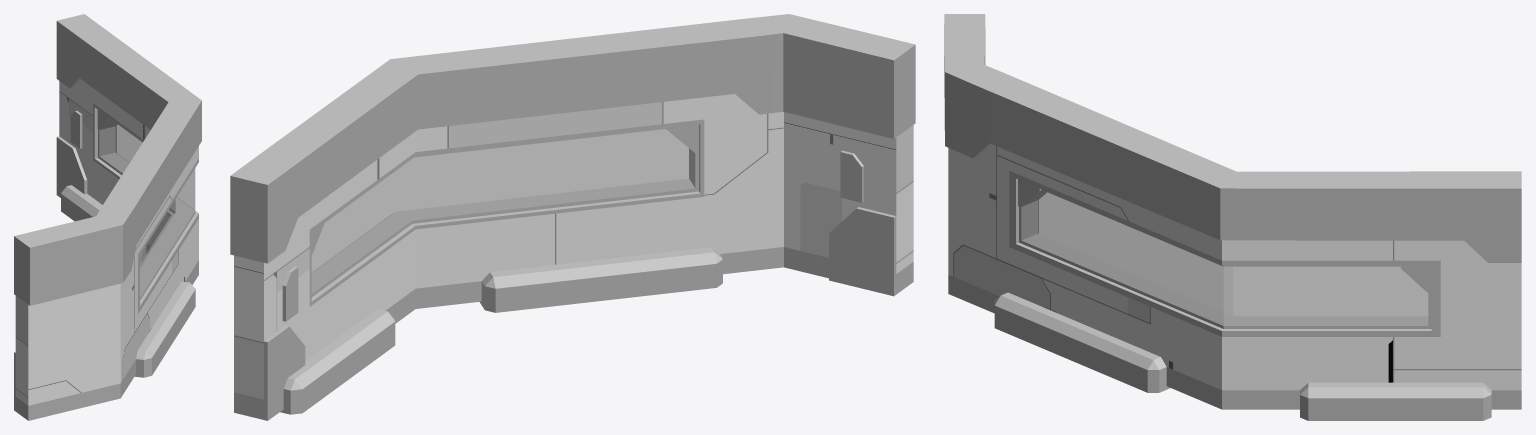
File: SM_Wall_7x3_Corner_Window_1.fbx
3 renders of one model, left to right at view 1: azimuth 30°, elevation 25°; view 2: azimuth 150°, elevation 25°; view 3: azimuth 270°, elevation 25°, orthographic. The views are drawn at different scales.
Visible parts, largest first — view 1: SM_Wall_7x3_Corner_Window_1; view 2: SM_Wall_7x3_Corner_Window_1; view 3: SM_Wall_7x3_Corner_Window_1.
Part boxes in pixels (x1=…): SM_Wall_7x3_Corner_Window_1: x1=14, y1=14, x2=201, y2=420; SM_Wall_7x3_Corner_Window_1: x1=230, y1=14, x2=915, y2=420; SM_Wall_7x3_Corner_Window_1: x1=944, y1=14, x2=1521, y2=420.
Bounding box in the file's own units: 523 × 305 × 705.
